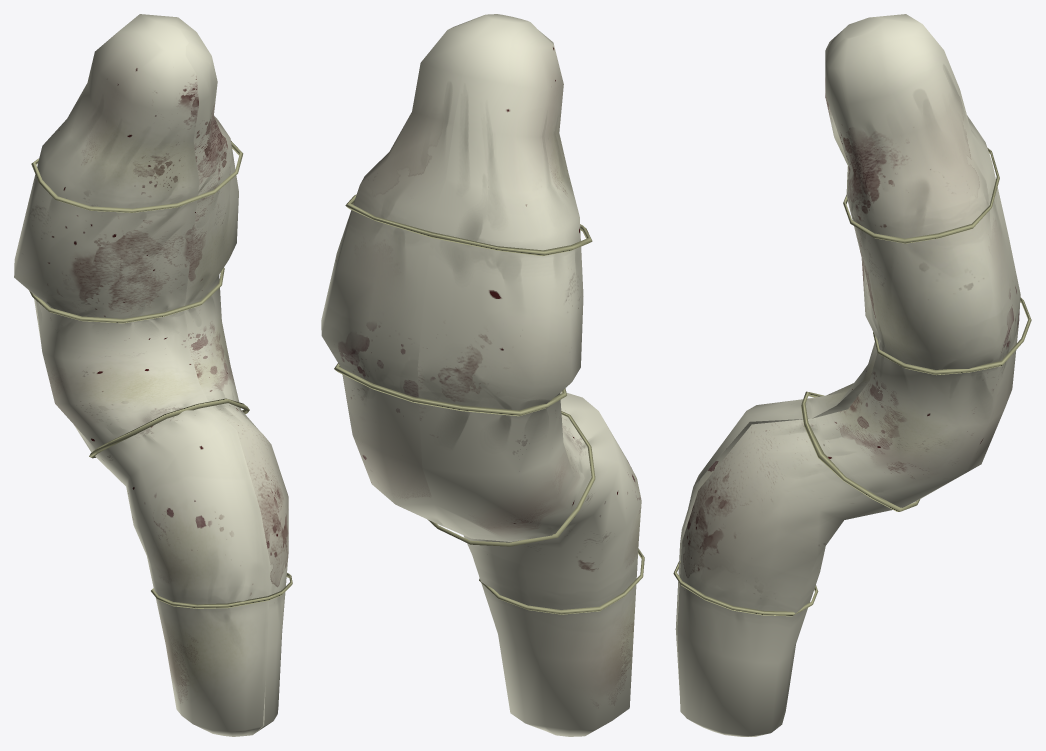
File: KainKafanSittingV2.fbx
3 views of the same model, side by side, from view 1: azimuth 30°, elevation 25°; view 2: azimuth 150°, elevation 25°; view 3: azimuth 270°, elevation 25° (orthographic). The views are drawn at different scales.
Parts seen in each view (by area): view 1: Plane001, Torus004, Torus001, Torus002, Torus003; view 2: Plane001, Torus004, Torus001, Torus002, Torus003; view 3: Plane001, Torus002, Torus004, Torus001, Torus003.
Boxes of the visible parts, x1,y1,x2,y2 form: Plane001: (14,14,288,736); Torus004: (31,141,243,212); Torus001: (29,268,224,323); Torus002: (89,398,249,458); Torus003: (151,573,292,608); Plane001: (321,14,641,736); Torus004: (345,194,592,256); Torus001: (334,363,566,416); Torus002: (427,411,595,546); Torus003: (479,548,644,614); Plane001: (675,14,1020,736); Torus002: (801,391,920,511); Torus004: (843,148,999,243); Torus001: (873,297,1031,375); Torus003: (673,561,818,616).
Size of the model in its own units: 460 by 1339 by 616.
